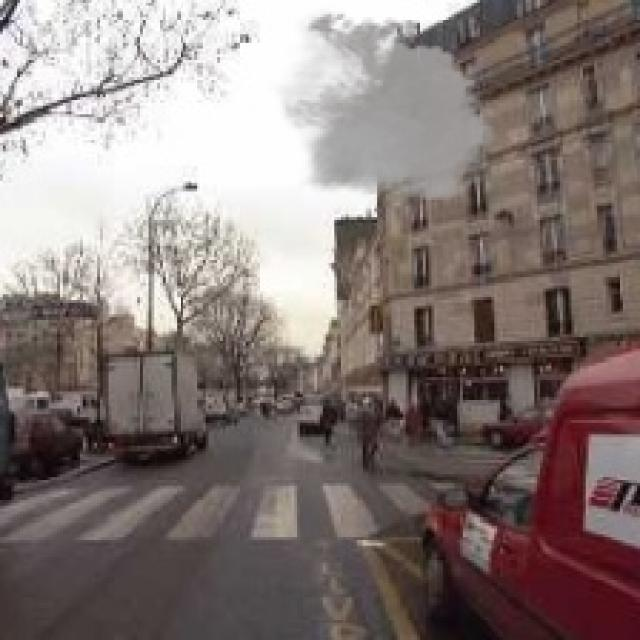smoke: (268, 5, 503, 208)
